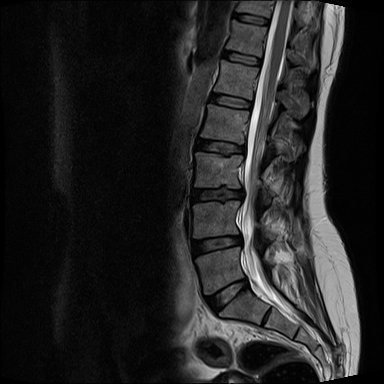Lumbar Disc Bulge (LDB): (181, 219, 254, 264), (181, 174, 253, 214)
Normal IVD: (200, 273, 250, 320), (184, 131, 249, 160), (200, 87, 255, 113), (216, 42, 265, 70), (226, 8, 273, 30)
Spinal Stenosis (SS): (226, 177, 256, 215), (223, 223, 253, 256)
